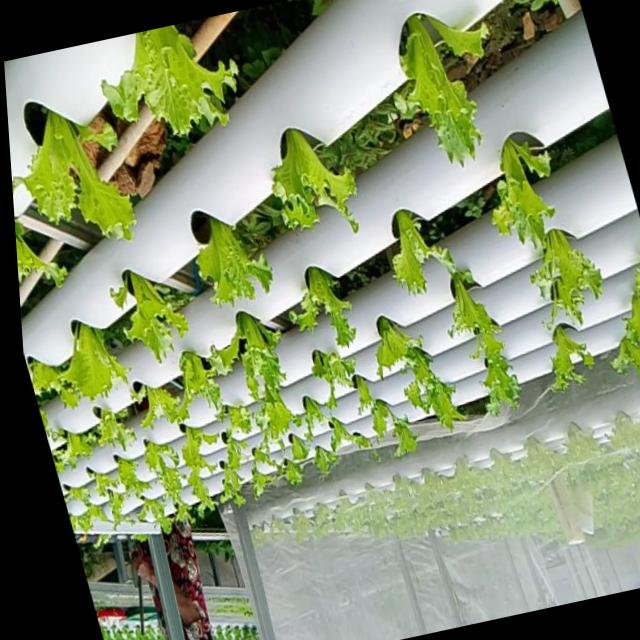Baby: (12, 115, 133, 242), (99, 27, 235, 137), (394, 14, 480, 167), (445, 265, 518, 414), (270, 128, 356, 233), (189, 211, 270, 305), (490, 137, 553, 248), (529, 229, 600, 325), (114, 270, 186, 363), (59, 323, 128, 405), (390, 209, 454, 295), (288, 266, 354, 347), (403, 347, 464, 430), (167, 346, 223, 423), (142, 441, 188, 520), (251, 383, 300, 445), (305, 349, 353, 408), (374, 316, 420, 377), (550, 325, 592, 390), (623, 272, 640, 347), (116, 458, 146, 498), (136, 499, 170, 532), (250, 441, 275, 474), (225, 406, 250, 434), (106, 490, 122, 528)
